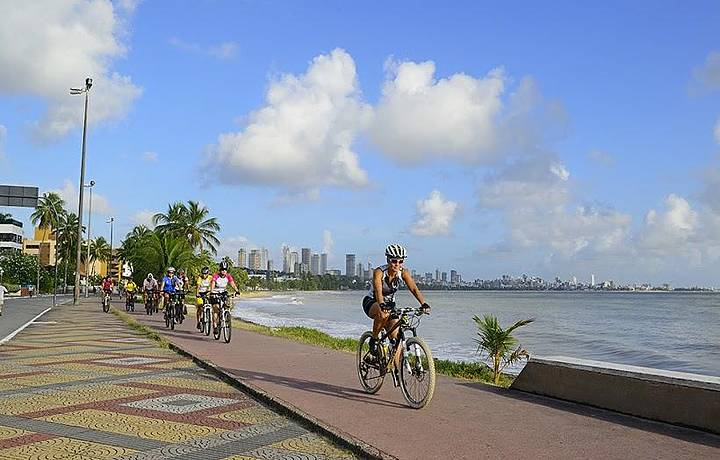Humano: (363, 237, 430, 310), (215, 260, 237, 298), (198, 267, 216, 297), (162, 266, 180, 292), (176, 267, 190, 292), (143, 270, 156, 292), (102, 273, 115, 294), (124, 278, 139, 294)
